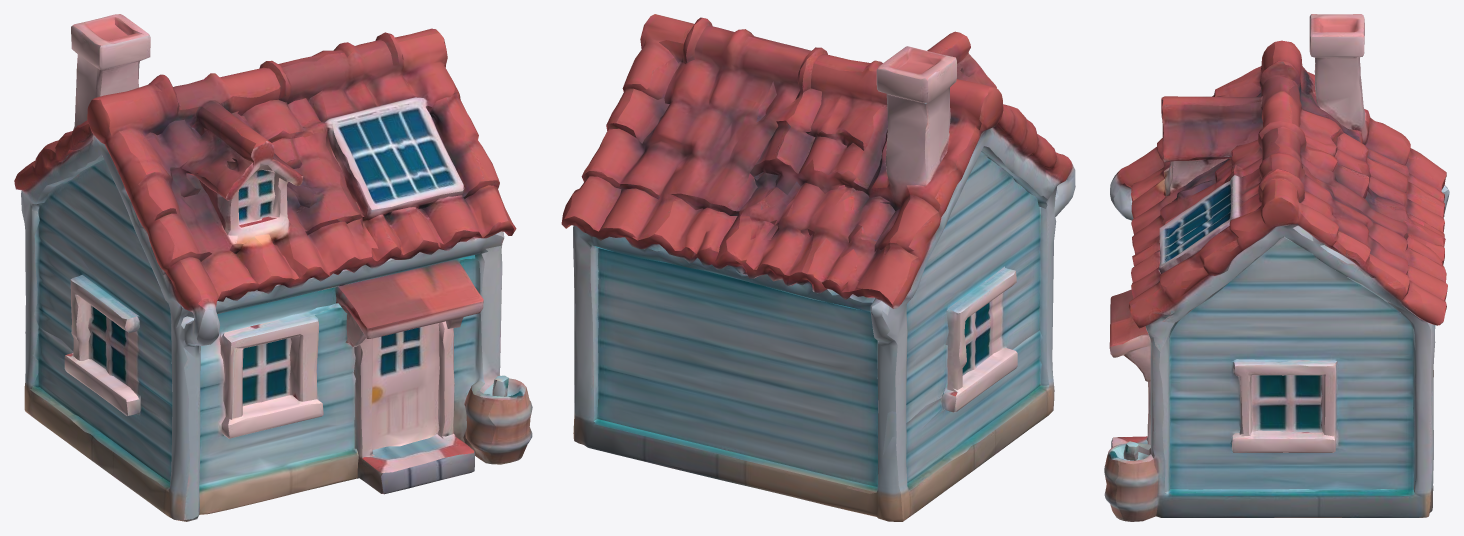
Rendered from cottage_b.glb.
The picture shows the model from 3 angles, left to right: view 1: azimuth 30°, elevation 25°; view 2: azimuth 150°, elevation 25°; view 3: azimuth 270°, elevation 25°; orthographic projection. The views are drawn at different scales.
Visible parts, largest first — view 1: cottage_b_s11; view 2: cottage_b_s11; view 3: cottage_b_s11.
Part boxes in pixels (x1=…): cottage_b_s11: x1=14, y1=14, x2=532, y2=521; cottage_b_s11: x1=561, y1=14, x2=1075, y2=521; cottage_b_s11: x1=1104, y1=14, x2=1449, y2=521.
Size of the model in its own units: 0.8885 by 1 by 0.8497.
1 material, 1 textured.
